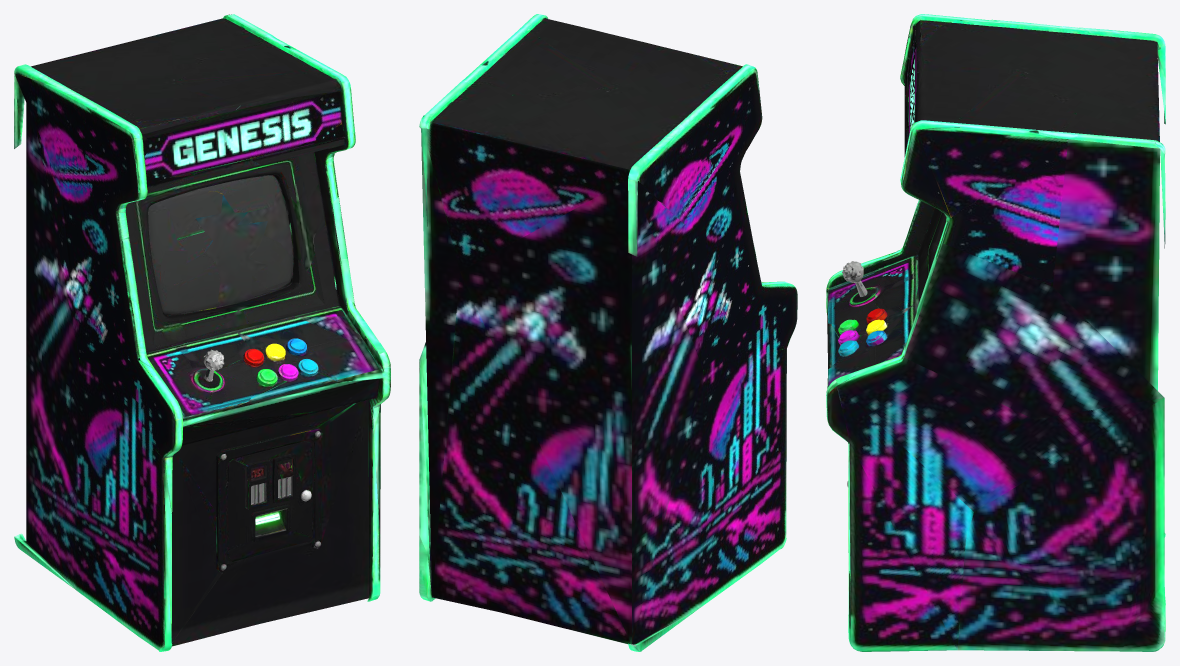
File: cab2.glb
The picture shows the model from 3 angles, left to right: view 1: azimuth 30°, elevation 25°; view 2: azimuth 150°, elevation 25°; view 3: azimuth 270°, elevation 25°; orthographic projection. The views are drawn at different scales.
Parts seen in each view (by area): view 1: Mesh_0; view 2: Mesh_0; view 3: Mesh_0.
Boxes of the visible parts, x1=… form: Mesh_0: x1=14, y1=14, x2=390, y2=651; Mesh_0: x1=419, y1=14, x2=797, y2=651; Mesh_0: x1=826, y1=14, x2=1165, y2=651.
Size of the model in its own units: 0.8609 by 1.9 by 1.11.
1 material, 1 textured.
